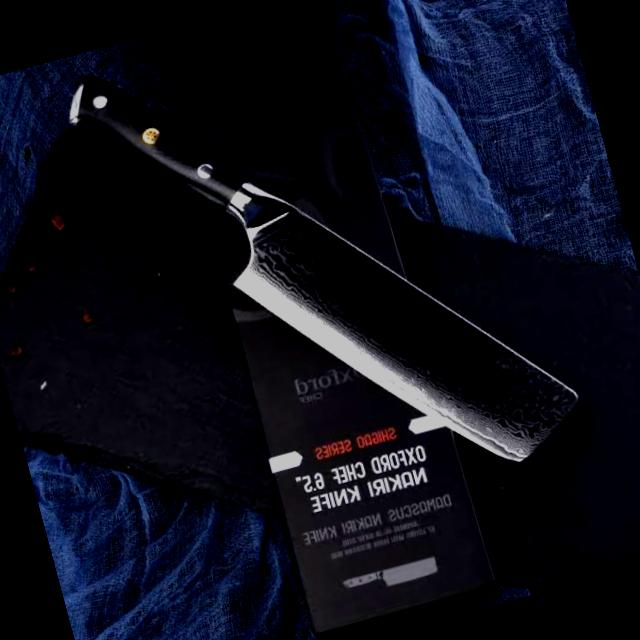knife: (15, 62, 601, 497)
